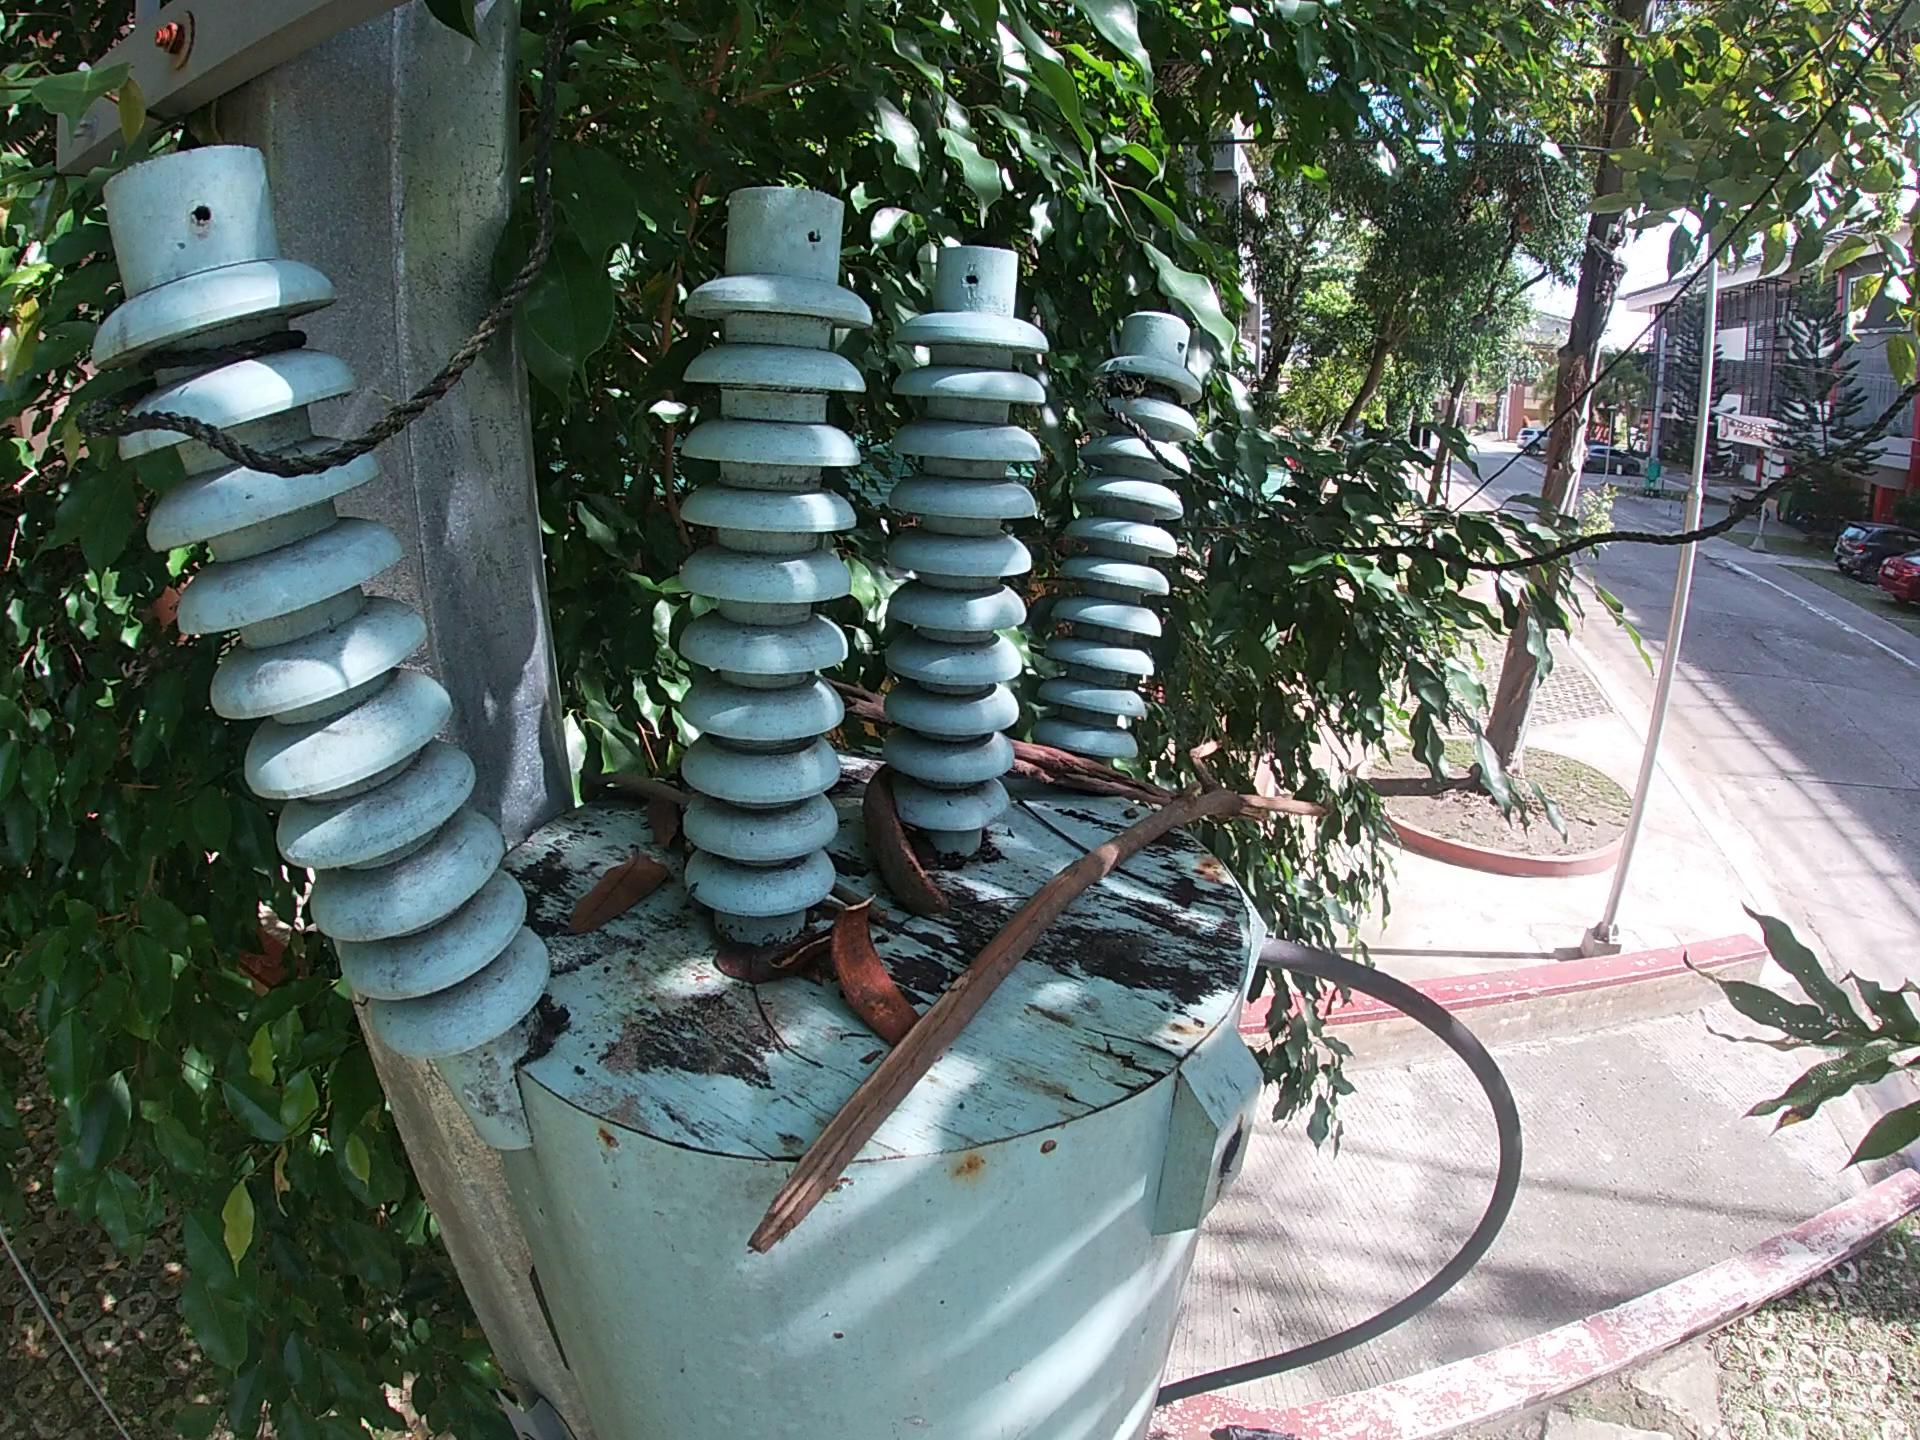leaf: (564, 839, 682, 939), (708, 932, 788, 988), (636, 790, 689, 855)
mahogany fruit: (860, 756, 958, 921), (822, 892, 922, 1048)
tree branch: (742, 734, 1336, 1249), (819, 678, 1179, 808), (571, 768, 691, 811), (830, 880, 893, 924)
